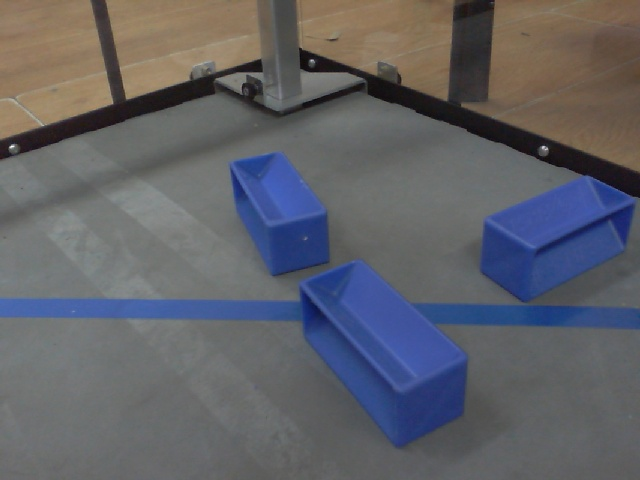BlueSample: (297, 258, 472, 447), (479, 171, 636, 301), (227, 144, 333, 278)
